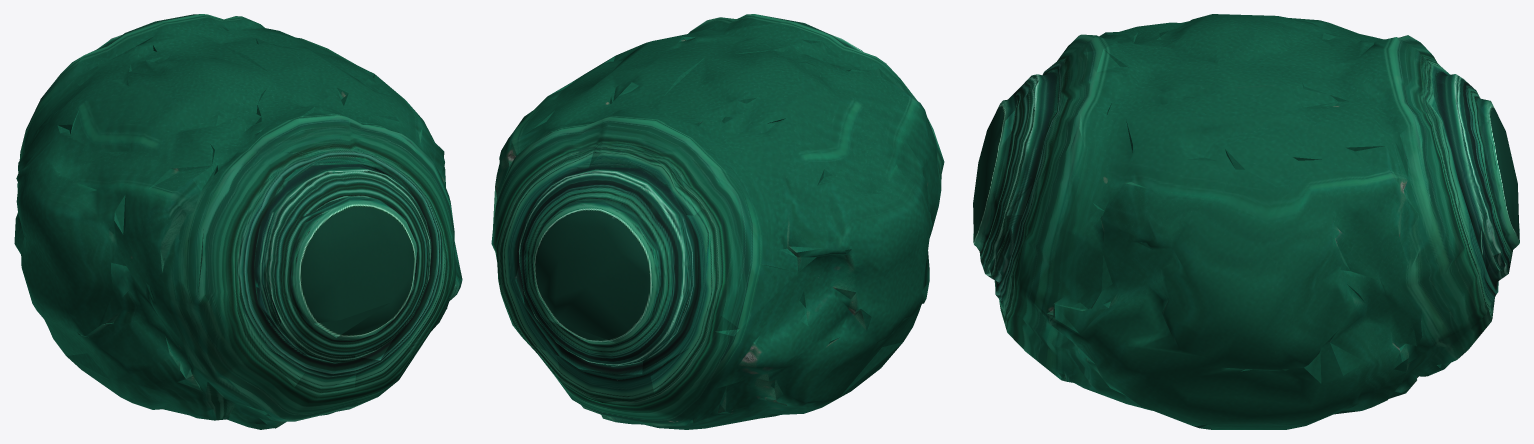
Rendered from Malachite.fbx.
3 views of the same model, side by side, from view 1: azimuth 30°, elevation 25°; view 2: azimuth 150°, elevation 25°; view 3: azimuth 270°, elevation 25° (orthographic). The views are drawn at different scales.
Visible parts, largest first — view 1: Mesh_0; view 2: Mesh_0; view 3: Mesh_0.
Part boxes in pixels (<box>): Mesh_0: <box>14,14,462,429</box>; Mesh_0: <box>491,14,944,429</box>; Mesh_0: <box>973,14,1519,429</box>.
Size of the model in its own units: 170 by 137 by 190.
1 material, 1 textured.
